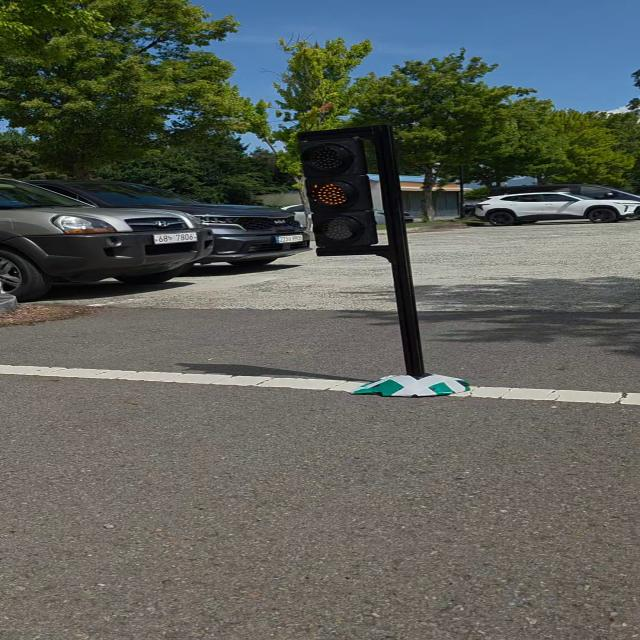yellow: (296, 135, 378, 256)
